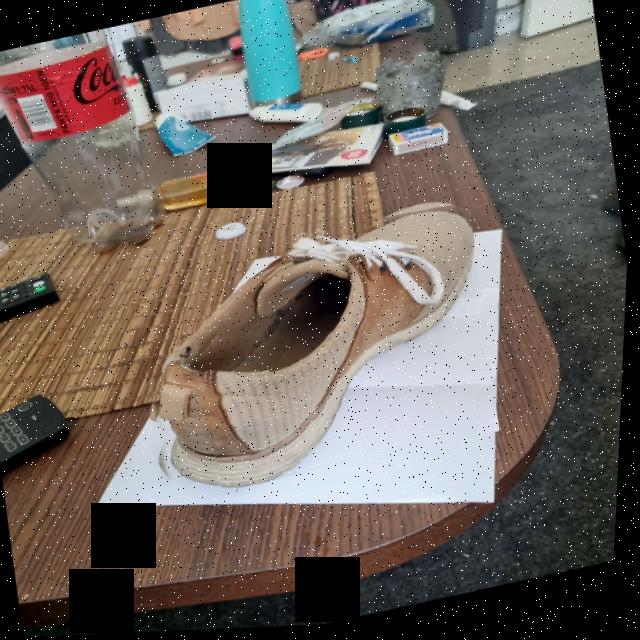shoe: (120, 194, 512, 508)
